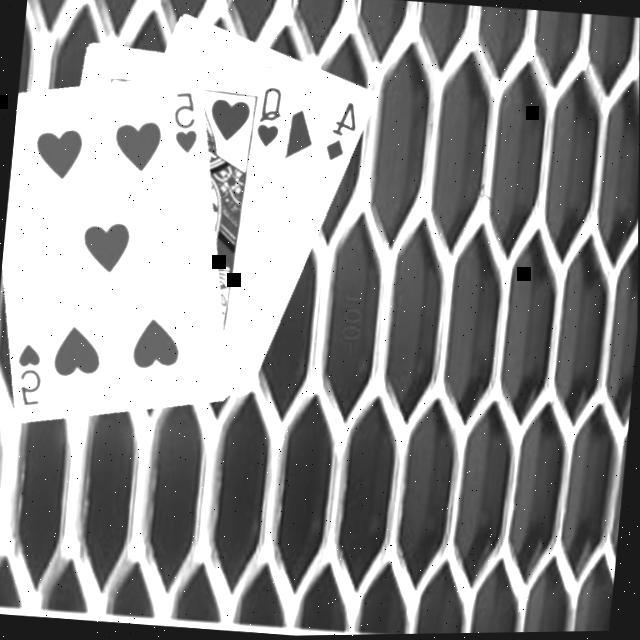4D: (323, 96, 364, 165)
5H: (169, 86, 207, 157), (13, 338, 51, 408)
QH: (254, 82, 288, 150)
